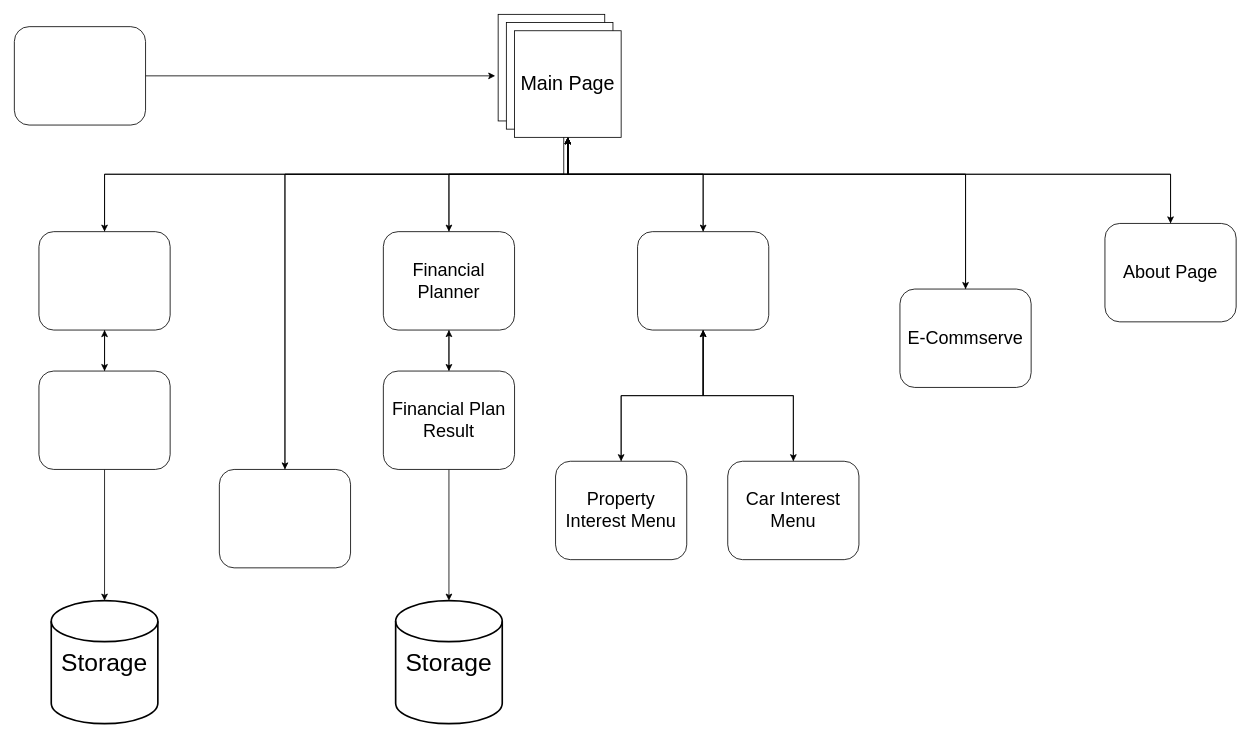
Some shapes in this 1251 by 739 pixel diagram are drawn without their labels. The shapes that lost their labels are listed below. From the top down, each one's box as (x1, y1, x2, y2) in pixels, then its label:
(14, 26, 146, 125): Splash Screen
(38, 231, 170, 330): EMI Calculator
(637, 231, 769, 330): Interest Menu
(38, 370, 170, 469): EMI Result
(219, 469, 351, 568): NEWS
